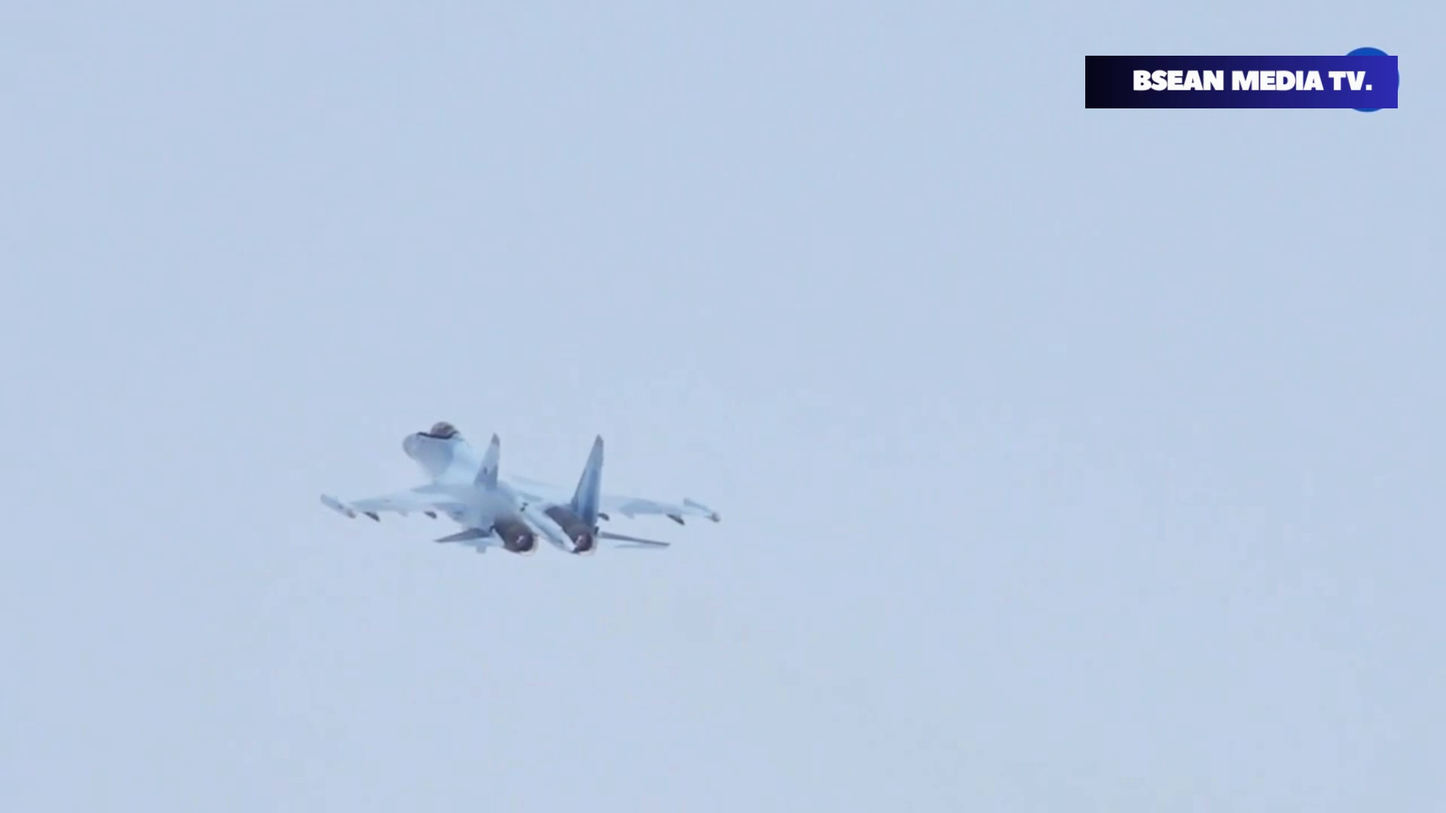Su35: (318, 419, 722, 558)
